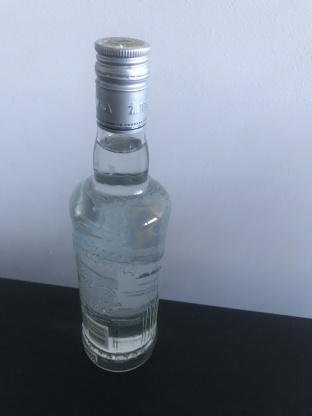nakretka: (92, 34, 152, 136)
